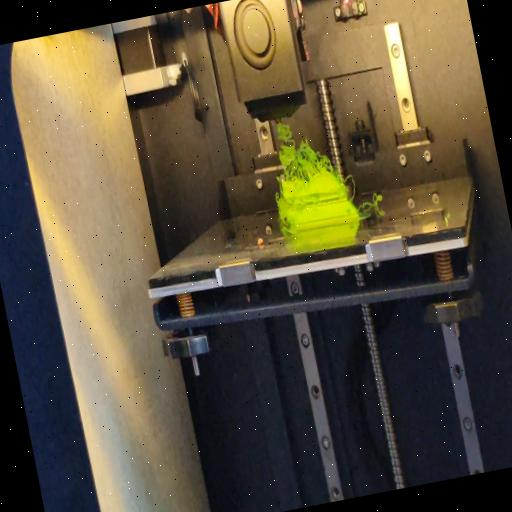spaghetti: (267, 108, 336, 187), (357, 189, 384, 211), (340, 170, 358, 202), (280, 220, 290, 236)
